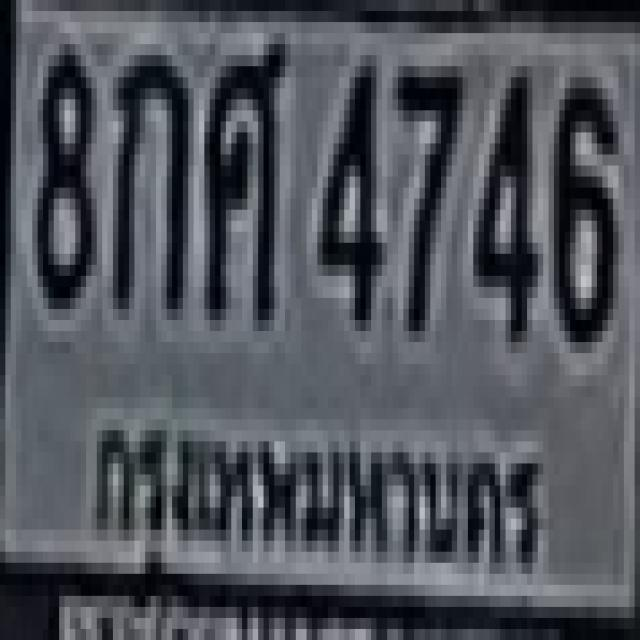-: (202, 33, 282, 309), (107, 44, 183, 309)
4: (470, 55, 530, 331), (314, 55, 374, 320)
6: (549, 66, 613, 331)
7: (393, 55, 457, 331)
8: (32, 44, 92, 298)
BKK: (76, 388, 551, 617)
